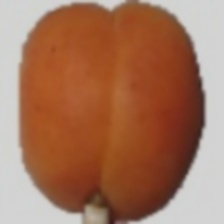apricot: (48, 38, 207, 179)
